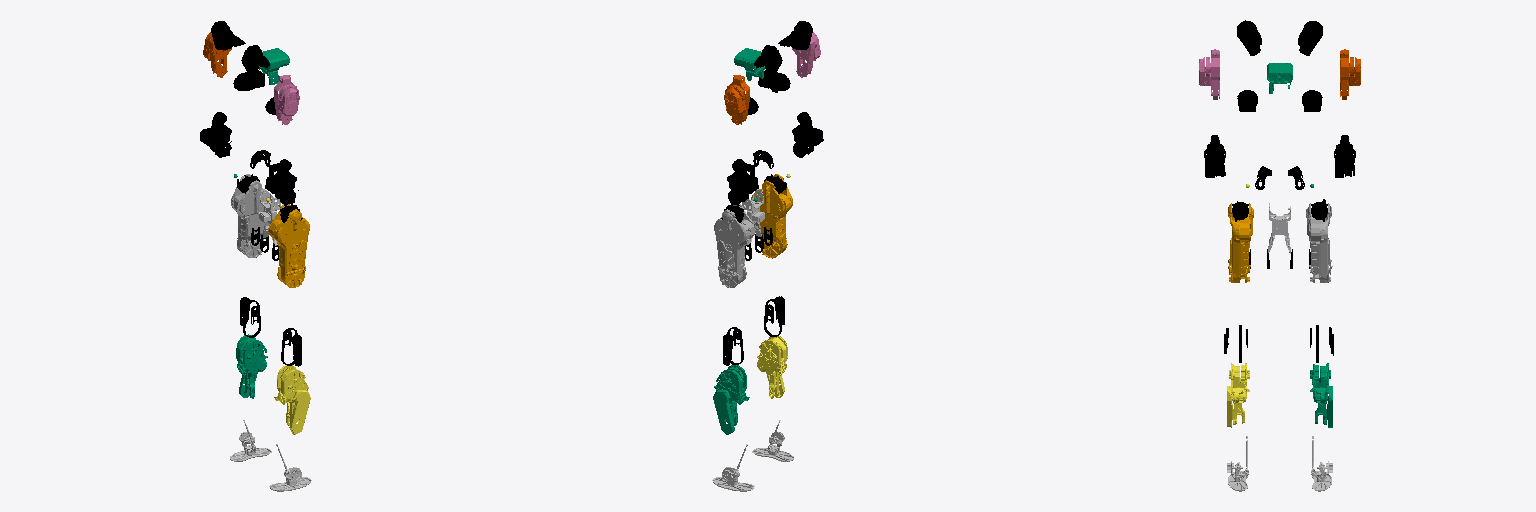
--- Facts derived from the render (not from the file) ---
The picture shows the robot from 3 angles, left to right: view 1: azimuth 30°, elevation 25°; view 2: azimuth 150°, elevation 25°; view 3: azimuth 270°, elevation 25°; orthographic projection.
Model draco_3 with 39 links and 38 joints (27 revolute, 11 fixed), rooted at torso_link, posed all joints at 0.
Links seen in each view (by area): view 1: r_hip_fe_link, l_hip_fe_link, r_knee_fe_ld, l_knee_fe_ld, r_shoulder_ie_link, l_elbow_fe_link, r_elbow_fe_link, l_shoulder_ie_link, l_shoulder_fe_link, neck_pitch_link; view 2: l_hip_fe_link, r_hip_fe_link, l_knee_fe_ld, r_knee_fe_ld, l_shoulder_ie_link, l_elbow_fe_link, r_elbow_fe_link, r_shoulder_ie_link, r_shoulder_fe_link, neck_pitch_link; view 3: r_hip_fe_link, l_hip_fe_link, l_knee_fe_ld, r_knee_fe_ld, r_shoulder_ie_link, l_shoulder_ie_link, r_shoulder_fe_link, l_shoulder_fe_link, neck_pitch_link.
Boxes of the visible links, box(x1,y1,x2,y2) form: r_hip_fe_link: box(268, 204, 309, 287); l_hip_fe_link: box(231, 174, 272, 257); r_knee_fe_ld: box(274, 365, 310, 434); l_knee_fe_ld: box(236, 334, 267, 398); r_shoulder_ie_link: box(274, 75, 299, 124); l_elbow_fe_link: box(200, 112, 231, 145); r_elbow_fe_link: box(265, 159, 296, 193); l_shoulder_ie_link: box(203, 32, 231, 77); l_shoulder_fe_link: box(211, 21, 245, 49); neck_pitch_link: box(259, 48, 289, 84); l_hip_fe_link: box(714, 204, 755, 287); r_hip_fe_link: box(751, 174, 792, 258); l_knee_fe_ld: box(713, 365, 749, 434); r_knee_fe_ld: box(757, 336, 787, 398); l_shoulder_ie_link: box(724, 75, 749, 124); l_elbow_fe_link: box(727, 159, 758, 193); r_elbow_fe_link: box(792, 112, 823, 145); r_shoulder_ie_link: box(792, 32, 820, 77); r_shoulder_fe_link: box(778, 21, 812, 49); neck_pitch_link: box(734, 48, 764, 80); r_hip_fe_link: box(1228, 203, 1253, 282); l_hip_fe_link: box(1306, 203, 1332, 282); l_knee_fe_ld: box(1310, 363, 1332, 427); r_knee_fe_ld: box(1227, 363, 1249, 427); r_shoulder_ie_link: box(1199, 49, 1219, 99); l_shoulder_ie_link: box(1340, 49, 1360, 99); r_shoulder_fe_link: box(1237, 20, 1261, 55); l_shoulder_fe_link: box(1298, 21, 1322, 55); neck_pitch_link: box(1267, 63, 1292, 93).
Size in the robot's own frame: 0.3294 by 0.785 by 2.36 metres.
Meshes: 30 distinct files referenced, 29 mesh visuals loaded (22 binary STL, 7 OBJ); not drawn: 1 (reference not matched to a file when rendering).

The robot description file, URDF, robot "draco_3":
<?xml version="1.0" ?>
<robot name="draco_3" xmlns:xacro="http://www.ros.org/wiki/xacro">

  <material name = "dark_gray">
      <color rgba="0.3 0.3 0.3 1"/>
  </material>

  <material name="gray">
    <color rgba="0.5 0.5 0.5 1.0"/>
  </material>

  <material name = "light_blue">
      <color rgba="0.52 0.73 1 1"/>
  </material>

  <material name = "black">
      <color rgba="0 0 0 1"/>
  </material>

  <material name = "white">
    <color rgba="0.8 0.8 0.8 1"/>
  </material>

  <!--=============================== root (torso) ===========================-->

  <link name="torso_link">
    <visual>
      <origin rpy="0 -0 0" xyz="0 0 0"/>
      <geometry>
        <!--<mesh filename="package://meshes/torso_link.stl"/>-->
        <mesh filename="package://meshes/torso_link3.obj"/>
      </geometry>
      <!--<material name="gray"/>-->
    </visual>
    <inertial>
      <origin rpy="0 0 0" xyz="-0.0310745 -0.000497416 0.137484"/>
      <mass value="6.41443"/>
      <inertia ixx="0.171435" ixy="6.32882e-05" ixz="0.0271615" iyy="0.175671" iyz="0.000581149" izz="0.036373"/>
    </inertial>
  </link>

  <!--=============================== torso_com (torso_com_link) ===========================-->
  <joint name="torso_com" type="fixed">
    <origin rpy="0 0 0" xyz="-0.0310745 -0.000497416 0.137484"/>
    <parent link="torso_link"/>
    <child link="torso_com_link"/>
  </joint>
  <link name="torso_com_link">
    <inertial>
      <origin rpy="0 0 0" xyz="0 0 0"/>
      <mass value="1e-9"/>
      <inertia ixx="0" ixy="0" ixz="0" iyy="0" iyz="0" izz="0"/>
    </inertial>
  </link>

  <!--=============================== neck_pitch (neck_pitch_link) ===========================-->
  <joint name="neck_pitch" type="revolute">
    <origin rpy="0 0 0" xyz="-0.0025 0 0.352"/>
    <parent link="torso_link"/>
    <child link="neck_pitch_link"/>
    <axis xyz="0 1 0"/>
    <limit effort="8.8" lower="-0.523599" upper="1.309" velocity="82.8"/>
    <joint_properties friction="0.0"/>
  </joint>
  <link name="neck_pitch_link">
    <visual>
      <origin rpy="0 -0 0" xyz="0 0 -0.35"/>
      <geometry>
        <!--<mesh filename="package://meshes/neck_pitch_link.stl"/>-->
        <mesh filename="package://meshes/neck_pitch_link3.obj"/>
      </geometry>
      <!--<material name="dark_gray"/>-->
    </visual>
    <inertial>
      <origin rpy="0 0 0" xyz="0.0133603 -0.00105814 0.0772145"/>
      <mass value="1.22948"/>
      <inertia ixx="0.00233791" ixy="-2.09082e-05" ixz="-0.000158016" iyy="0.00192287" iyz="-9.56707e-05" izz="0.00275375"/>
    </inertial>
  </link>

  <!--=============================== l_shoulder_fe (l_shoulder_fe_link) ===========================-->
  <joint name="l_shoulder_fe" type="revolute">
    <origin rpy="0.523599 0 0" xyz="-0.05 0.156 0.2625"/>
    <parent link="torso_link"/>
    <child link="l_shoulder_fe_link"/>
    <axis xyz="0 1 0"/>
    <limit effort="18" lower="-2.26893" upper="0.698132" velocity="30"/>
    <joint_properties friction="0.0"/>
  </joint>
  <link name="l_shoulder_fe_link">
    <visual>
      <origin rpy="0 -0 0" xyz="0 0 0"/>
      <geometry>
        <mesh filename="package://meshes/l_shoulder_fe_link.stl"/>
      </geometry>
      <material name="black"/>
    </visual>
    <inertial>
      <origin rpy="0 0 0" xyz="-0.0270089 -0.0272215 0"/>
      <mass value="1.02127"/>
      <inertia ixx="0.003" ixy="0.000188" ixz="-1.077e-04" iyy="0.002" iyz="-4.214e-07" izz="0.002"/>
    </inertial>
  </link>

  <!--=============================== l_shoulder_aa (l_shoulder_aa_link) ===========================-->
  <joint name="l_shoulder_aa" type="revolute">
    <origin rpy="-0.523599 0 0" xyz="0 0 0"/>
    <parent link="l_shoulder_fe_link"/>
    <child link="l_shoulder_aa_link"/>
    <axis xyz="1 0 0"/>
    <limit effort="18" lower="0" upper="2.0944" velocity="30"/>
    <joint_properties friction="0.0"/>
  </joint>
  <link name="l_shoulder_aa_link">
    <visual>
      <origin rpy="0 -0 0" xyz="0 0 0"/>
      <geometry>
        <mesh filename="package://meshes/l_shoulder_aa_link.stl"/>
      </geometry>
      <material name="black"/>
    </visual>
    <inertial>
      <origin rpy="0 0 0" xyz="0.0189446 0.000135529 0.00688183"/>
      <mass value="0.880498"/>
      <inertia ixx="0.00104194" ixy="5.17675e-06" ixz="-0.000110264" iyy="0.00190054" iyz="6.87354e-06" izz="0.00224159"/>
    </inertial>
  </link>

  <!--=============================== l_shoulder_ie (l_shoulder_ie_link) ===========================-->
  <joint name="l_shoulder_ie" type="revolute">
    <origin rpy="0 0 0" xyz="0 0 0"/>
    <parent link="l_shoulder_aa_link"/>
    <child link="l_shoulder_ie_link"/>
    <axis xyz="0 0 1"/>
    <limit effort="18" lower="-1.48353" upper="1.48353" velocity="30"/>
    <joint_properties friction="0.0"/>
  </joint>
  <link name="l_shoulder_ie_link">
    <visual>
      <origin rpy="0 -0 0" xyz="0 0 0"/>
      <geometry>
        <!--<mesh filename="package://meshes/l_shoulder_ie_link.stl"/>-->
        <mesh filename="package://meshes/l_shoulder_ie_link3.obj"/>
      </geometry>
      <!--<material name="gray"/>-->
    </visual>
    <inertial>
      <origin rpy="0 0 0" xyz="-0.00401807 0.0300008 -0.137263"/>
      <mass value="1.21235"/>
      <inertia ixx="0.00490878" ixy="4.35994e-05" ixz="-6.63613e-05" iyy="0.00459797" iyz="3.61794e-05" izz="0.00207282"/>
    </inertial>
  </link>

  <!--=============================== l_elbow_fe (l_elbow_fe_link) ===========================-->
  <joint name="l_elbow_fe" type="revolute">
    <origin rpy="0 0 0" xyz="0 0 -0.25"/>
    <parent link="l_shoulder_ie_link"/>
    <child link="l_elbow_fe_link"/>
    <axis xyz="0 1 0"/>
    <limit effort="10" lower="-2.0944" upper="0.0872665" velocity="37.1"/>
    <joint_properties friction="0.0"/>
  </joint>
  <link name="l_elbow_fe_link">
    <visual>
      <origin rpy="0 -0 0" xyz="0 0 0"/>
      <geometry>
        <mesh filename="package://meshes/l_elbow_fe_link.stl"/>
      </geometry>
      <material name="black"/>
    </visual>
    <inertial>
      <origin rpy="0 0 0" xyz="-0.0190443 0 -0.0633779"/>
      <mass value="0.989887"/>
      <inertia ixx="0.00220347" ixy="-2.91162e-08" ixz="-0.000310918" iyy="0.00297439" iyz="2.27665e-07" izz="0.0021045"/>
    </inertial>
  </link>

  <!--=============================== l_wrist_ps (l_wrist_ps_link) ===========================-->
  <joint name="l_wrist_ps" type="revolute">
    <origin rpy="0 0 0" xyz="0 0 0"/>
    <parent link="l_elbow_fe_link"/>
    <child link="l_wrist_ps_link"/>
    <axis xyz="0 0 1"/>
    <limit effort="12" lower="-1.5708" upper="1.5708" velocity="44.5"/>
    <joint_properties friction="0.0"/>
  </joint>
  <link name="l_wrist_ps_link">
    <visual>
      <origin rpy="0 -0 0" xyz="0 0 0"/>
      <geometry>
        <mesh filename="package://meshes/l_wrist_ps_link.stl"/>
      </geometry>
      <material name="black"/>
    </visual>
    <inertial>
      <origin rpy="0 0 0" xyz="0.000433726 0.0158433 -0.154"/>
      <mass value="0.64434"/>
      <inertia ixx="0.001" ixy="1.05504e-05" ixz="-5.41208e-06" iyy="0.001" iyz="4.65277e-05" izz="0.001"/>
    </inertial>
  </link>

  <!--=============================== l_wrist_pitch (l_wrist_pitch_link) ===========================-->
  <joint name="l_wrist_pitch" type="revolute">
    <origin rpy="0 0 0" xyz="0 0 -0.1578"/>
    <parent link="l_wrist_ps_link"/>
    <child link="l_wrist_pitch_link"/>
    <axis xyz="0 1 0"/>
    <limit effort="8.8" lower="-1.5708" upper="1.5708" velocity="82.8"/>
    <joint_properties friction="0.0"/>
  </joint>
  <link name="l_wrist_pitch_link">
    <inertial>
      <origin rpy="0 0 0" xyz="0 0 0"/>
      <mass value="1e-9"/>
      <inertia ixx="0" ixy="0" ixz="0" iyy="0" iyz="0" izz="0"/>
    </inertial>
  </link>

  <!--=============================== l_wrist_mount (l_sake_gripper_link) ===========================-->
  <joint name="l_wrist_mount" type="fixed">
    <origin rpy="0 0 0" xyz="0 0 0"/>
    <parent link="l_wrist_pitch_link"/>
    <child link="l_sake_gripper_link"/>
  </joint>
  <link name="l_sake_gripper_link">
    <visual>
      <origin rpy="0 -0 3.14" xyz="0 0 0"/>
      <geometry>
        <mesh filename="package://meshes/l_sake_gripper_link.stl"/>
      </geometry>
      <material name="white"/>
    </visual>
    <inertial>
      <origin rpy="0 0 0" xyz="5.4498e-05 0.000382544 -0.0372594"/>
      <mass value="0.545"/>
      <inertia ixx="0.001" ixy="3.07738e-09" ixz="2.26958e-07" iyy="0.0004628" iyz="-6.35882e-06" izz="0.001"/>
    </inertial>
  </link>

  <!--=============================== l_camera_frame (l_camera) ===========================-->
  <joint name="l_camera_frame" type="fixed">
      <!--circle-->
      <!--<origin rpy="0 0 0" xyz="-0.05535 0 -0.0975"/> -->
      <!--camera (45 deg)-->
      <!--<origin rpy="0 2.355 0" xyz="-0.07267 0 -0.0802"/> -->
      <!--camera (90 deg)-->
      <origin rpy="0 3.14 0" xyz="-0.05535 0 -0.073"/>
    <parent link="l_sake_gripper_link"/>
    <child link="l_camera"/>
    <axis xyz="0 0 0"/>
  </joint>
  <link name="l_camera">
    <inertial>
      <origin rpy="0 0 0" xyz="0 0 0"/>
      <mass value="1e-9"/>
      <inertia ixx="0" ixy="0" ixz="0" iyy="0" iyz="0" izz="0"/>
    </inertial>
    <visual>
      <origin rpy="0 0 0" xyz="0 0 0"/>
      <geometry>
          <sphere radius="0.01"/>
      </geometry>
    </visual>
  </link>

  <!--=============================== l_hand_contact_frame (l_hand_contact) ===========================-->
  <joint name="l_hand_contact_frame" type="fixed">
    <origin rpy="0 0 0" xyz="0 0 -0.2"/>
    <parent link="l_sake_gripper_link"/>
    <child link="l_hand_contact"/>
    <axis xyz="0 0 0"/>
  </joint>
  <link name="l_hand_contact">
    <inertial>
      <origin rpy="0 0 0" xyz="0 -2.70394e-05 0.0354675"/>
      <mass value="0.777441"/>
      <inertia ixx="0.000260285" ixy="0" ixz="0" iyy="0.000225381" iyz="0" izz="0.0000152708"/>
      <!-- <origin rpy="0 0 0" xyz="0 0 0"/>
      <mass value="1e-9"/>
      <inertia ixx="0" ixy="0" ixz="0" iyy="0" iyz="0" izz="0"/> -->
    </inertial>
  </link>

  <!--=============================== r_shoulder_fe (r_shoulder_fe_link) ===========================-->
  <joint name="r_shoulder_fe" type="revolute">
    <origin rpy="-0.523599 0 0" xyz="-0.05 -0.156 0.2625"/>
    <parent link="torso_link"/>
    <child link="r_shoulder_fe_link"/>
    <axis xyz="0 1 0"/>
    <limit effort="18" lower="-2.26893" upper="0.698132" velocity="30"/>
    <joint_properties friction="0.0"/>
  </joint>
  <link name="r_shoulder_fe_link">
    <visual>
      <origin rpy="0 -0 0" xyz="0 0 0"/>
      <geometry>
        <mesh filename="package://meshes/r_shoulder_fe_link.stl"/>
      </geometry>
      <material name="black"/>
    </visual>
    <inertial>
      <origin rpy="0 0 0" xyz="-0.0825089 0.0272215 6.40505e-05"/>
      <mass value="1.02127"/>
      <inertia ixx="0.003" ixy="-0.000198378" ixz="3.31293e-05" iyy="0.002" iyz="-3.00004e-06" izz="0.002"/>
    </inertial>
  </link>

  <!--=============================== r_shoulder_aa (r_shoulder_aa_link) ===========================-->
  <joint name="r_shoulder_aa" type="revolute">
    <origin rpy="0.523599 0 0" xyz="0 0 0"/>
    <parent link="r_shoulder_fe_link"/>
    <child link="r_shoulder_aa_link"/>
    <axis xyz="1 0 0"/>
    <limit effort="18" lower="-2.0944" upper="0" velocity="30"/>
    <joint_properties friction="0.0"/>
  </joint>
  <link name="r_shoulder_aa_link">
    <visual>
      <origin rpy="0 -0 0" xyz="0 0 0"/>
      <geometry>
        <mesh filename="package://meshes/r_shoulder_aa_link.stl"/>
      </geometry>
      <material name="black"/>
    </visual>
    <inertial>
      <origin rpy="0 0 0" xyz="0.0189446 0.000135529 0.00688183"/>
      <mass value="0.880498"/>
      <inertia ixx="0.00104194" ixy="5.17675e-06" ixz="-0.000110264" iyy="0.00190054" iyz="6.87354e-06" izz="0.00224159"/>
    </inertial>
  </link>

  <!--=============================== r_shoulder_ie (r_shoulder_ie_link) ===========================-->
  <joint name="r_shoulder_ie" type="revolute">
    <origin rpy="0 0 0" xyz="0 0 0"/>
    <parent link="r_shoulder_aa_link"/>
    <child link="r_shoulder_ie_link"/>
    <axis xyz="0 0 1"/>
    <limit effort="18" lower="-1.48353" upper="1.48353" velocity="30"/>
    <joint_properties friction="0.0"/>
  </joint>
  <link name="r_shoulder_ie_link">
    <visual>
      <origin rpy="0 -0 0" xyz="0 0 0"/>
      <geometry>
        <!--<mesh filename="package://meshes/r_shoulder_ie_link.stl"/>-->
        <mesh filename="package://meshes/r_shoulder_ie_link3.obj"/>
      </geometry>
      <!--<material name="gray"/>-->
    </visual>
    <inertial>
      <origin rpy="0 0 0" xyz="-0.00404627 -0.029987 -0.137257"/>
      <mass value="1.21235"/>
      <inertia ixx="0.00490973" ixy="-4.37742e-05" ixz="-6.62765e-05" iyy="0.00459809" iyz="-3.39569e-05" izz="0.002074"/>
    </inertial>
  </link>

  <!--=============================== r_elbow_fe (r_elbow_fe_link) ===========================-->
  <joint name="r_elbow_fe" type="revolute">
    <origin rpy="0 0 0" xyz="0 0 -0.25"/>
    <parent link="r_shoulder_ie_link"/>
    <child link="r_elbow_fe_link"/>
    <axis xyz="0 1 0"/>
    <limit effort="10" lower="-2.0944" upper="0.0872665" velocity="37.1"/>
    <joint_properties friction="0.0"/>
  </joint>
  <link name="r_elbow_fe_link">
    <visual>
      <origin rpy="0 -0 0" xyz="0 0 0"/>
      <geometry>
        <mesh filename="package://meshes/r_elbow_fe_link.stl"/>
      </geometry>
      <material name="black"/>
    </visual>
    <inertial>
      <origin rpy="0 0 0" xyz="-0.0190415 1.75896e-05 -0.0633849"/>
      <mass value="0.990031"/>
      <inertia ixx="0.00220407" ixy="-2.9063e-08" ixz="-0.000310786" iyy="0.00297478" iyz="2.27528e-07" izz="0.00210481"/>
    </inertial>
  </link>

  <!--=============================== r_wrist_ps (r_wrist_ps_link) ===========================-->
  <joint name="r_wrist_ps" type="revolute">
    <origin rpy="0 0 0" xyz="0 0 0"/>
    <parent link="r_elbow_fe_link"/>
    <child link="r_wrist_ps_link"/>
    <axis xyz="0 0 1"/>
    <limit effort="12" lower="-1.5708" upper="1.5708" velocity="44.5"/>
    <joint_properties friction="0.0"/>
  </joint>
  <link name="r_wrist_ps_link">
    <visual>
      <origin rpy="0 -0 0" xyz="0 0 0"/>
      <geometry>
        <mesh filename="package://meshes/r_wrist_ps_link.stl"/>
      </geometry>
      <material name="black"/>
    </visual>
    <inertial>
      <origin rpy="0 0 0" xyz="0.000229308 0.0158433 -0.154481"/>
      <mass value="0.64434"/>
      <inertia ixx="0.001" ixy="5.23851e-06" ixz="-4.22277e-06" iyy="0.001" iyz="3.40912e-05" izz="0.001"/>
    </inertial>
  </link>

  <!--=============================== r_wrist_pitch (r_wrist_pitch_link) ===========================-->
  <joint name="r_wrist_pitch" type="revolute">
    <origin rpy="0 0 0" xyz="0 0 -0.1578"/>
    <parent link="r_wrist_ps_link"/>
    <child link="r_wrist_pitch_link"/>
    <axis xyz="0 1 0"/>
    <limit effort="8.8" lower="-1.5708" upper="1.5708" velocity="82.8"/>
    <joint_properties friction="0.0"/>
  </joint>
  <link name="r_wrist_pitch_link">
    <inertial>
      <origin rpy="0 0 0" xyz="0 0 0"/>
      <mass value="1e-9"/>
      <inertia ixx="0" ixy="0" ixz="0" iyy="0" iyz="0" izz="0"/>
    </inertial>
  </link>

  <!--=============================== r_wrist_mount (r_sake_gripper_link) ===========================-->
  <joint name="r_wrist_mount" type="fixed">
    <origin rpy="0 0 0" xyz="0 0 0"/>
    <parent link="r_wrist_pitch_link"/>
    <child link="r_sake_gripper_link"/>
  </joint>
  <link name="r_sake_gripper_link">
    <visual>
      <origin rpy="0 -0 3.14" xyz="0 0 0"/>
      <geometry>
        <mesh filename="package://meshes/r_sake_gripper_link.stl"/>
      </geometry>
      <material name="white"/>
    </visual>
    <inertial>
      <origin rpy="0 0 0" xyz="5.4498e-05 0.000382544 -0.0372594"/>
      <mass value="0.545"/>
      <inertia ixx="0.001" ixy="3.07738e-09" ixz="2.26958e-07" iyy="0.0004628" iyz="-6.35882e-06" izz="0.001"/>
    </inertial>
  </link>

  <!--=============================== r_camera_frame (r_camera) ===========================-->
  <joint name="r_camera_frame" type="fixed">
      <!--circle-->
      <!--<origin rpy="0 0 0" xyz="-0.05535 0 -0.0975"/> -->
      <!--camera (45 deg)-->
      <!--<origin rpy="0 2.355 0" xyz="-0.07267 0 -0.0802"/> -->
      <!--camera (90 deg)-->
      <origin rpy="0 3.14 0" xyz="-0.05535 0 -0.073"/>
    <parent link="r_sake_gripper_link"/>
    <child link="r_camera"/>
    <axis xyz="0 0 0"/>
  </joint>
  <link name="r_camera">
    <inertial>
      <origin rpy="0 0 0" xyz="0 0 0"/>
      <mass value="1e-9"/>
      <inertia ixx="0" ixy="0" ixz="0" iyy="0" iyz="0" izz="0"/>
    </inertial>
    <visual>
      <origin rpy="0 0 0" xyz="0 0 0"/>
      <geometry>
          <sphere radius="0.01"/>
      </geometry>
    </visual>
  </link>

  <!--=============================== r_hand_contact_frame (r_hand_contact) ===========================-->
  <joint name="r_hand_contact_frame" type="fixed">
    <origin rpy="0 0 0" xyz="0 0 -0.2"/>
    <parent link="r_sake_gripper_link"/>
    <child link="r_hand_contact"/>
    <axis xyz="0 0 0"/>
  </joint>
  <link name="r_hand_contact">
    <inertial>
      <origin rpy="0 0 0" xyz="0 -2.70394e-05 0.0354675"/>
      <mass value="0.777441"/>
      <inertia ixx="0.000260285" ixy="0" ixz="0" iyy="0.000225381" iyz="0" izz="0.0000152708"/>
      <!-- <origin rpy="0 0 0" xyz="0 0 0"/>
      <mass value="1e-9"/>
      <inertia ixx="0" ixy="0" ixz="0" iyy="0" iyz="0" izz="0"/> -->
    </inertial>
  </link>

  <!--=============================== l_hip_ie (l_hip_ie_link) ===========================-->
  <joint name="l_hip_ie" type="revolute">
    <origin rpy="0.523599 0 0" xyz="0 0.06 -0.0893782"/>
    <parent link="torso_link"/>
    <child link="l_hip_ie_link"/>
    <axis xyz="0 0 1"/>
    <limit effort="44" lower="-0.872665" upper="0.872665" velocity="8.1"/>
    <joint_properties friction="0.0"/>
  </joint>
  <link name="l_hip_ie_link">
    <visual>
      <origin rpy="0 -0 0" xyz="0 0 0"/>
      <geometry>
        <mesh filename="package://meshes/l_hip_ie_link.stl"/>
      </geometry>
      <material name="black"/>
    </visual>
    <inertial>
      <origin rpy="0 0 0" xyz="-0.00699855 0.00580214 -0.0245826"/>
      <mass value="0.139743"/>
      <inertia ixx="0.000107251" ixy="-6.29131e-06" ixz="5.03369e-06" iyy="0.000199571" iyz="-2.59816e-07" izz="0.00015888"/>
    </inertial>
  </link>

  <!--=============================== l_hip_aa (l_hip_aa_link) ===========================-->
  <joint name="l_hip_aa" type="revolute">
    <origin rpy="-0.523599 0 0" xyz="0 0 -0.07"/>
    <parent link="l_hip_ie_link"/>
    <child link="l_hip_aa_link"/>
    <axis xyz="1 0 0"/>
    <limit effort="56" lower="-0.261799" upper="0.785398" velocity="5.1"/>
    <joint_properties friction="0.0"/>
  </joint>
  <link name="l_hip_aa_link">
    <visual>
      <origin rpy="0 -0 0" xyz="0 0 0"/>
      <geometry>
        <mesh filename="package://meshes/l_hip_aa_link.stl"/>
      </geometry>
      <material name="black"/>
    </visual>
    <inertial>
      <origin rpy="0 0 0" xyz="0.00107664 0.00164809 -0.00149004"/>
      <mass value="0.77975"/>
      <inertia ixx="0.001" ixy="1.93711e-05" ixz="-1.45347e-06" iyy="0.001" iyz="2.96392e-05" izz="0.001"/>
    </inertial>
  </link>

  <!--=============================== l_hip_fe (l_hip_fe_link) ===========================-->
  <joint name="l_hip_fe" type="revolute">
    <origin rpy="0 0 0" xyz="0 0 0"/>
    <parent link="l_hip_aa_link"/>
    <child link="l_hip_fe_link"/>
    <axis xyz="0 1 0"/>
    <limit effort="59.6" lower="-1.52716" upper="0.523599" velocity="36.7"/>
    <joint_properties friction="0.0"/>
  </joint>
  <link name="l_hip_fe_link">
    <visual>
      <origin rpy="0 -0 0" xyz="0 0 0"/>
      <geometry>
        <!--<mesh filename="package://meshes/l_hip_fe_link.stl"/>-->
        <mesh filename="package://meshes/l_hip_fe_link3.obj"/>
      </geometry>
      <!--<material name="gray"/>-->
    </visual>
    <inertial>
      <origin rpy="0 0 0" xyz="0.00057 -0.00303734 -0.164021"/>
      <mass value="4.549"/>
      <inertia ixx="0.0497956" ixy="0.000306806" ixz="0.000744022" iyy="0.0552997" iyz="0.00394109" izz="0.0129964"/>
    </inertial>
  </link>

  <!--=============================== l_knee_fe_jp (l_knee_fe_lp) ===========================-->
  <joint name="l_knee_fe_jp" type="revolute">
    <origin rpy="0 0 0" xyz="0 0 -0.324231"/>
    <parent link="l_hip_fe_link"/>
    <child link="l_knee_fe_lp"/>
    <axis xyz="0 1 0"/>
    <limit effort="40.85" lower="-0.0872665" upper="1.52716" velocity="13.35"/>
    <joint_properties friction="0.0"/>
  </joint>
  <link name="l_knee_fe_lp">
    <visual>
      <origin rpy="0 -0 0" xyz="0 0 0"/>
      <geometry>
        <mesh filename="package://meshes/l_knee_fe_lp.stl"/>
      </geometry>
      <material name="black"/>
    </visual>
    <inertial>
      <origin rpy="0 0 0" xyz="-4.80156e-09 0.00425279 -0.0291238"/>
      <mass value="0.135683"/>
      <inertia ixx="0.00048051" ixy="4.39106e-11" ixz="3.91495e-11" iyy="0.000329965" iyz="-3.71846e-05" izz="0.000282787"/>
    </inertial>
  </link>

  <!--=============================== l_knee_adj (l_knee_adj_link) ===========================-->
  <joint name="l_knee_adj" type="fixed">
    <origin rpy="0 0 0" xyz="0 0 -0.0557693"/>
    <parent link="l_knee_fe_lp"/>
    <child link="l_knee_adj_link"/>
  </joint>
  <link name="l_knee_adj_link">
    <visual>
      <origin rpy="0 -0 0" xyz="0 0 0"/>
      <geometry>
        <mesh filename="package://meshes/l_knee_adj_link.stl"/>
      </geometry>
      <material name="black"/>
    </visual>
    <inertial>
      <origin rpy="0 0 0" xyz="0 0.006 -0.0323676"/>
      <mass value="0.090042"/>
      <inertia ixx="0.000230283" ixy="7.86884e-09" ixz="-1.29921e-20" iyy="7.20839e-05" iyz="-1.23413e-18" izz="0.000195694"/>
    </inertial>
  </link>

  <!--=============================== l_knee_fe_jd (l_knee_fe_ld) ===========================-->
  <joint name="l_knee_fe_jd" type="revolute">
    <origin rpy="0 0 0" xyz="0 0 -0.1115386"/>
    <parent link="l_knee_fe_lp"/>
    <child link="l_knee_fe_ld"/>
    <axis xyz="0 1 0"/>
    <limit effort="40.85" lower="-0.0872665" upper="1.52716" velocity="13.35"/>
  </joint>
  <link name="l_knee_fe_ld">
    <visual>
      <origin rpy="0 -0 0" xyz="0 0 0"/>
      <geometry>
        <!--<mesh filename="package://meshes/l_knee_fe_ld.stl"/>-->
        <mesh filename="package://meshes/l_knee_fe_ld3.obj"/>
      </geometry>
      <!--<material name="black"/>-->
    </visual>
    <inertial>
      <origin rpy="0 0 0" xyz="0.00392246 0.00238405 -0.07941"/>
      <mass value="2.55664"/>
      <inertia ixx="0.011" ixy="-0.000259001" ixz="-0.000169" iyy="0.013" iyz="0.001" izz="0.005"/>
    </inertial>
  </link>

  <!--=============================== l_ankle_fe (l_ankle_fe_link) ===========================-->
  <joint name="l_ankle_fe" type="revolute">
    <origin rpy="0 0 0" xyz="0 0.00599 -0.248231"/>
    <parent link="l_knee_fe_ld"/>
    <child link="l_ankle_fe_link"/>
    <axis xyz="0 1 0"/>
    <limit effort="44" lower="-1.5708" upper="1.0472" velocity="8.1"/>
    <joint_properties friction="0.0"/>
  </joint>
  <link name="l_ankle_fe_link">
    <visual>
      <origin rpy="0 -0 0" xyz="0 0 0"/>
      <geometry>
        <mesh filename="package://meshes/l_ankle_fe_link.stl"/>
      </geometry>
      <material name="white"/>
    </visual>
    <inertial>
      <origin rpy="0 0 0" xyz="2.67715e-05 0.0277455 -0.000699218"/>
      <mass value="0.183143"/>
      <inertia ixx="8.90758e-05" ixy="2.90654e-07" ixz="-2.26413e-06" iyy="5.81098e-05" iyz="1.95082e-07" izz="0.000101604"/>
    </inertial>
  </link>

  <!--=============================== l_ankle_ie (l_ankle_ie_link) ===========================-->
  <joint name="l_ankle_ie" type="revolute">
    <origin rpy="0 0 0" xyz="0 0 0"/>
    <parent link="l_ankle_fe_link"/>
    <child link="l_ankle_ie_link"/>
    <axis xyz="1 0 0"/>
    <limit effort="30" lower="-0.785398" upper="0.261799" velocity="11.1"/>
    <joint_properties friction="0.0"/>
  </joint>
  <link name="l_ankle_ie_link">
    <visual>
      <origin rpy="0 -0 0" xyz="0 0 0"/>
      <geometry>
        <mesh filename="package://meshes/l_ankle_ie_link.stl"/>
      </geometry>
      <material name="white"/>
    </visual>
    <!--<visual>-->
      <!--<origin rpy="0 -0 0" xyz="0 -0.005 -0.046"/>-->
      <!--<geometry>-->
        <!--<box size="0.2 0.08 0.0591"/>-->
      <!--</geometry>-->
    <!--</visual>-->
    <collision>
      <origin rpy="0 -0 0" xyz="0 -0.005 -0.046"/>
      <geometry>
        <!--<box size="0.2 0.1 0.0591"/>-->
        <box size="0.25 0.15 0.0591"/>
      </geometry>
    </collision>
    <inertial>
      <origin rpy="0 0 0" xyz="-0.00320518 -0.0068186 -0.0444808"/>
      <mass value="0.436553"/>
      <inertia ixx="0.000962376" ixy="-2.58627e-05" ixz="0.000122026" iyy="0.00165909" iyz="0.000188621" izz="0.00108264"/>
    </inertial>
  </link>

  <!--=============================== l_foot_contact_frame (l_foot_contact) ===========================-->
  <joint name="l_foot_contact_frame" type="fixed">
    <origin rpy="0 0 0" xyz="0 0 -0.076"/>
    <parent link="l_ankle_ie_link"/>
    <child link="l_foot_contact"/>
  </joint>
  <link name="l_foot_contact">
    <inertial>
      <origin rpy="0 0 0" xyz="0 0 0"/>
      <mass value="1e-9"/>
      <inertia ixx="0" ixy="0" ixz="0" iyy="0" iyz="0" izz="0"/>
    </inertial>
  </link>

  <!--=============================== r_hip_ie (r_hip_ie_link) ===========================-->
  <joint name="r_hip_ie" type="revolute">
    <origin rpy="-0.523599 0 0" xyz="0 -0.06 -0.0893782"/>
    <parent link="torso_link"/>
    <child link="r_hip_ie_link"/>
    <axis xyz="0 0 1"/>
    <limit effort="44" lower="-0.872665" upper="0.872665" velocity="8.1"/>
    <joint_properties friction="0.0"/>
  </joint>
  <link name="r_hip_ie_link">
    <visual>
      <origin rpy="0 -0 0" xyz="0 0 0"/>
      <geometry>
        <mesh filename="package://meshes/r_hip_ie_link.stl"/>
      </geometry>
      <material name="black"/>
    </visual>
    <inertial>
      <origin rpy="0 0 0" xyz="-0.00703461 -0.00580298 -0.0246181"/>
      <mass value="0.139506"/>
      <inertia ixx="0.000107149" ixy="6.38614e-06" ixz="5.12641e-06" iyy="0.000199317" iyz="2.66262e-07" izz="0.000158733"/>
    </inertial>
  </link>

  <!--=============================== r_hip_aa (r_hip_aa_link) ===========================-->
  <joint name="r_hip_aa" type="revolute">
    <origin rpy="0.523599 0 0" xyz="0 0 -0.07"/>
    <parent link="r_hip_ie_link"/>
    <child link="r_hip_aa_link"/>
    <axis xyz="1 0 0"/>
    <limit effort="56" lower="-0.785398" upper="0.261799" velocity="5.1"/>
    <joint_properties friction="0.0"/>
  </joint>
  <link name="r_hip_aa_link">
    <visual>
      <origin rpy="0 -0 0" xyz="0 0 0"/>
      <geometry>
        <mesh filename="package://meshes/r_hip_aa_link.stl"/>
      </geometry>
      <material name="black"/>
    </visual>
    <inertial>
      <origin rpy="0 0 0" xyz="-0.000513526 -0.0019221 -0.00112805"/>
      <mass value="0.849423"/>
      <inertia ixx="0.000807304" ixy="-2.90747e-05" ixz="1.16932e-05" iyy="0.000791593" iyz="-2.47696e-05" izz="0.000937825"/>
    </inertial>
  </link>

  <!--=============================== r_hip_fe (r_hip_fe_link) ===========================-->
  <joint name="r_hip_fe" type="revolute">
    <origin rpy="0 0 0" xyz="0 0 0"/>
    <parent link="r_hip_aa_link"/>
    <child link="r_hip_fe_link"/>
    <axis xyz="0 1 0"/>
    <limit effort="59.6" lower="-1.52716" upper="0.523599" velocity="36.7"/>
    <joint_properties friction="0.0"/>
  </joint>
  <link name="r_hip_fe_link">
    <visual>
      <origin rpy="0 -0 0" xyz="0 0 0"/>
      <geometry>
        <!--<mesh filename="package://meshes/r_hip_fe_link.stl"/>-->
        <mesh filename="package://meshes/r_hip_fe_link3.obj"/>
      </geometry>
      <!--<material name="gray"/>-->
    </visual>
    <inertial>
      <origin rpy="0 0 0" xyz="0.00121565 -0.000254558 -0.171535"/>
      <mass value="4.983"/>
      <inertia ixx="0.057" ixy="-0.0003353" ixz="0.001" iyy="0.063" iyz="-0.004" izz="0.015"/>
    </inertial>
  </link>

  <!--=============================== r_knee_fe_jp (r_knee_fe_lp) ===========================-->
  <joint name="r_knee_fe_jp" type="revolute">
    <origin rpy="0 0 0" xyz="0 0 -0.324231"/>
    <parent link="r_hip_fe_link"/>
    <child link="r_knee_fe_lp"/>
    <axis xyz="0 1 0"/>
    <limit effort="40.85" lower="-0.0872665" upper="1.52716" velocity="13.35"/>
    <joint_properties friction="0.0"/>
  </joint>
  <link name="r_knee_fe_lp">
    <visual>
      <origin rpy="0 -0 0" xyz="0 -0.01 0"/>
      <geometry>
        <mesh filename="package://meshes/r_knee_fe_lp.stl"/>
      </geometry>
      <material name="black"/>
    </visual>
    <inertial>
      <origin rpy="0 0 0" xyz="4.28378e-09 -0.000374047 -0.0259832"/>
      <mass value="0.152083"/>
      <inertia ixx="0.001" ixy="4.75046e-11" ixz="-3.71034e-11" iyy="0.000343441" iyz="2.06816e-05" izz="0.000321184"/>
    </inertial>
  </link>

  <!--=============================== r_knee_adj (r_knee_adj_link) ===========================-->
  <joint name="r_knee_adj" type="fixed">
    <origin rpy="0 0 0" xyz="0 0 -0.0557693"/>
    <parent link="r_knee_fe_lp"/>
    <child link="r_knee_adj_link"/>
  </joint>
  <link name="r_knee_adj_link">
    <visual>
      <origin rpy="0 -0 0" xyz="0 0 0"/>
      <geometry>
        <mesh filename="package://meshes/r_knee_adj_link.stl"/>
      </geometry>
      <material name="black"/>
    </visual>
    <inertial>
      <origin rpy="0 0 0" xyz="0 -0.006 -0.0323676"/>
      <mass value="0.090042"/>
      <inertia ixx="0.000230283" ixy="7.86884e-09" ixz="2.52488e-19" iyy="7.20839e-05" iyz="-8.07064e-19" izz="0.000195694"/>
    </inertial>
  </link>

  <!--=============================== r_knee_fe_jd (r_knee_fe_ld) ===========================-->
  <joint name="r_knee_fe_jd" type="revolute">
    <origin rpy="0 0 0" xyz="0 0 -0.1115386"/>
    <parent link="r_knee_fe_lp"/>
    <child link="r_knee_fe_ld"/>
    <axis xyz="0 1 0"/>
    <limit effort="40.85" lower="-0.0872665" upper="1.52716" velocity="13.35"/>
    <joint_properties friction="0.0"/>
  </joint>
  <link name="r_knee_fe_ld">
    <visual>
      <origin rpy="0 -0 0" xyz="0 0 0"/>
      <geometry>
        <!--<mesh filename="package://meshes/r_knee_fe_ld.stl"/>-->
        <mesh filename="package://meshes/r_knee_fe_ld3.obj"/>
      </geometry>
      <!--<material name="gray"/>-->
    </visual>
    <inertial>
      <origin rpy="0 0 0" xyz="0.00388972 -0.00235124 -0.0784681"/>
      <mass value="2.58619"/>
      <inertia ixx="0.0110576" ixy="0.00025372" ixz="-0.000138968" iyy="0.0125163" iyz="-0.001" izz="0.005"/>
    </inertial>
  </link>

  <!--=============================== r_ankle_fe (r_ankle_fe_link) ===========================-->
  <joint name="r_ankle_fe" type="revolute">
    <origin rpy="0 0 0" xyz="0 -0.006 -0.248231"/>
    <parent link="r_knee_fe_ld"/>
    <child link="r_ankle_fe_link"/>
    <axis xyz="0 1 0"/>
    <limit effort="44" lower="-1.5708" upper="1.0472" velocity="8.1"/>
    <joint_properties friction="0.0"/>
  </joint>
  <link name="r_ankle_fe_link">
    <visual>
      <origin rpy="0 -0 0" xyz="0 0 0"/>
      <geometry>
        <mesh filename="package://meshes/r_ankle_fe_link.stl"/>
      </geometry>
      <material name="white"/>
    </visual>
    <inertial>
      <origin rpy="0 0 0" xyz="0 -0.0277456 -0.000698932"/>
      <mass value="0.183145"/>
      <inertia ixx="8.9077e-05" ixy="-5.7205e-07" ixz="-2.14649e-06" iyy="5.81093e-05" iyz="-1.95113e-07" izz="0.000101603"/>
    </inertial>
  </link>

  <!--=============================== r_ankle_ie (r_ankle_ie_link) ===========================-->
  <joint name="r_ankle_ie" type="revolute">
    <origin rpy="0 0 0" xyz="0 0 0"/>
    <parent link="r_ankle_fe_link"/>
    <child link="r_ankle_ie_link"/>
    <axis xyz="1 0 0"/>
    <limit effort="30" lower="-0.261799" upper="0.785398" velocity="11.1"/>
    <joint_properties friction="0.0"/>
  </joint>
  <link name="r_ankle_ie_link">
    <visual>
      <origin rpy="0 -0 0" xyz="0 0 0"/>
      <geometry>
        <mesh filename="package://meshes/r_ankle_ie_link.stl"/>
      </geometry>
      <material name="white"/>
    </visual>
    <!--<visual>-->
      <!--<origin rpy="0 -0 0" xyz="0 0.005 -0.046"/>-->
      <!--<geometry>-->
        <!--<box size="0.2 0.08 0.0591"/>-->
      <!--</geometry>-->
    <!--</visual>-->
    <collision>
      <origin rpy="0 -0 0" xyz="0 0.005 -0.046"/>
      <geometry>
        <!--<box size="0.2 0.1 0.0591"/>-->
        <box size="0.25 0.15 0.0591"/>
      </geometry>
    </collision>
    <inertial>
      <origin rpy="0 0 0" xyz="-0.00300438 0.00685638 -0.0443499"/>
      <mass value="0.437539"/>
      <inertia ixx="0.000967631" ixy="2.37588e-05" ixz="0.000131807" iyy="0.00163004" iyz="-0.000128971" izz="0.00111644"/>
    </inertial>
  </link>

  <!--=============================== r_foot_contact_frame (r_foot_contact) ===========================-->
  <joint name="r_foot_contact_frame" type="fixed">
    <origin rpy="0 0 0" xyz="0 0 -0.076"/>
    <parent link="r_ankle_ie_link"/>
    <child link="r_foot_contact"/>
  </joint>
  <link name="r_foot_contact">
    <inertial>
      <origin rpy="0 0 0" xyz="0 0 0"/>
      <mass value="1e-9"/>
      <inertia ixx="0" ixy="0" ixz="0" iyy="0" iyz="0" izz="0"/>
    </inertial>
  </link>
</robot>
